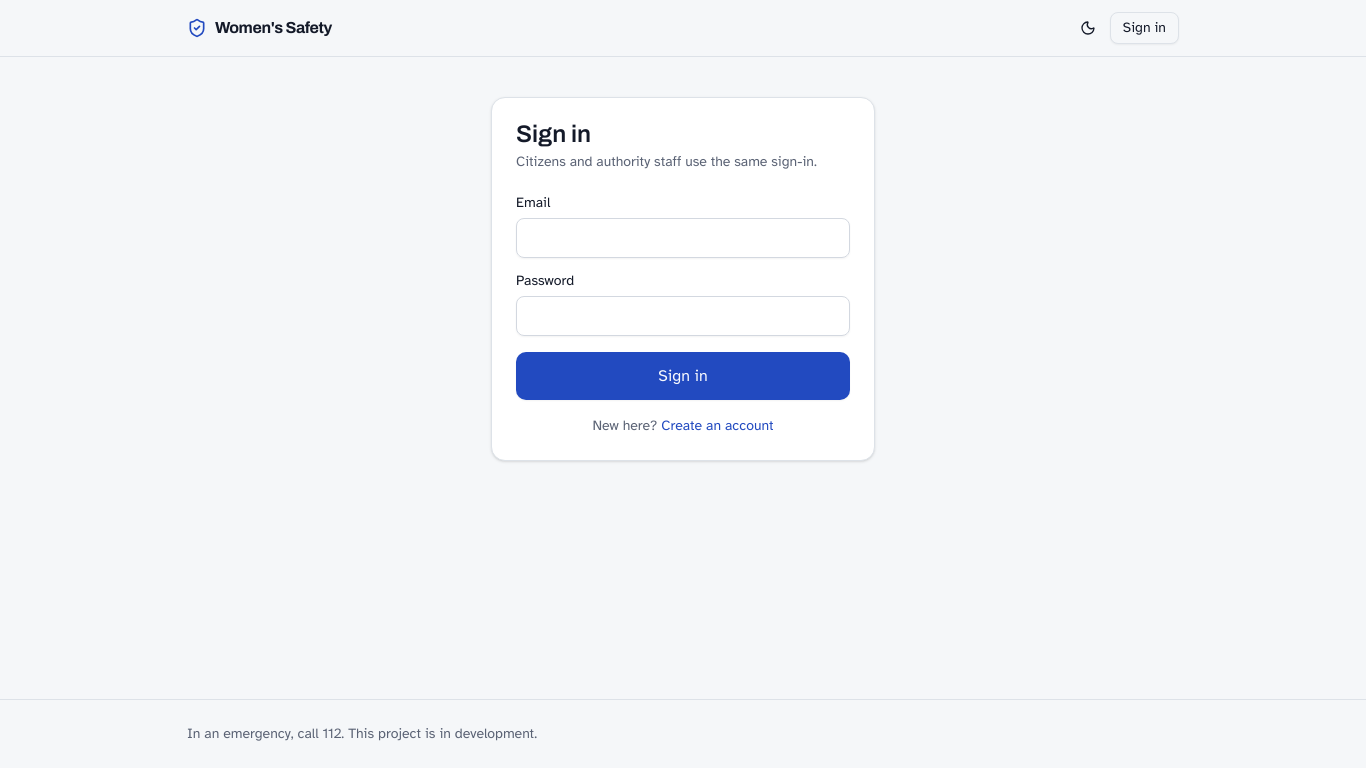
Test: sign-in › shows the error from a failed sign-in
The image size is (1366, 768).
Type "priya@example.org" into the field labelled "Email" at (683, 238), box 516,218 -> 850,258
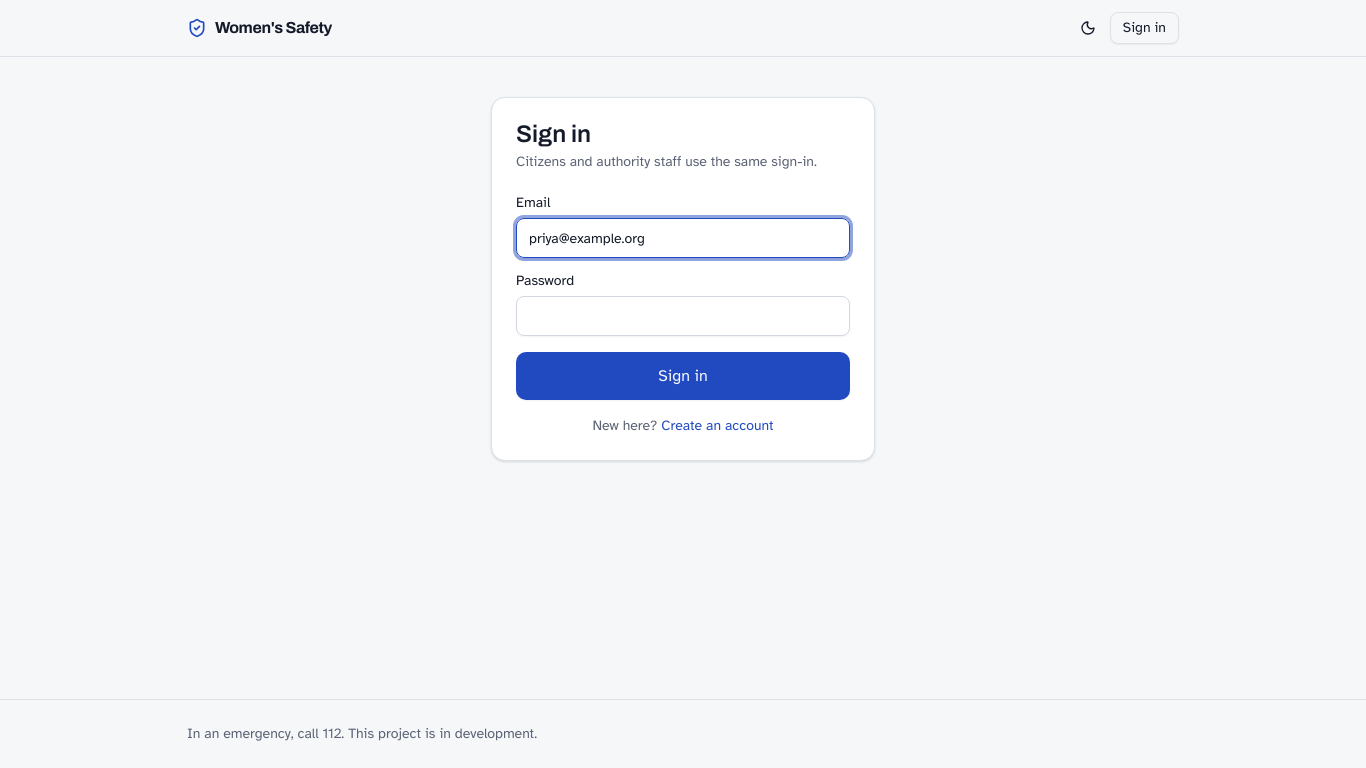
Type "wrong" into the password field labelled "Password" at (683, 316), box 516,296 -> 850,336
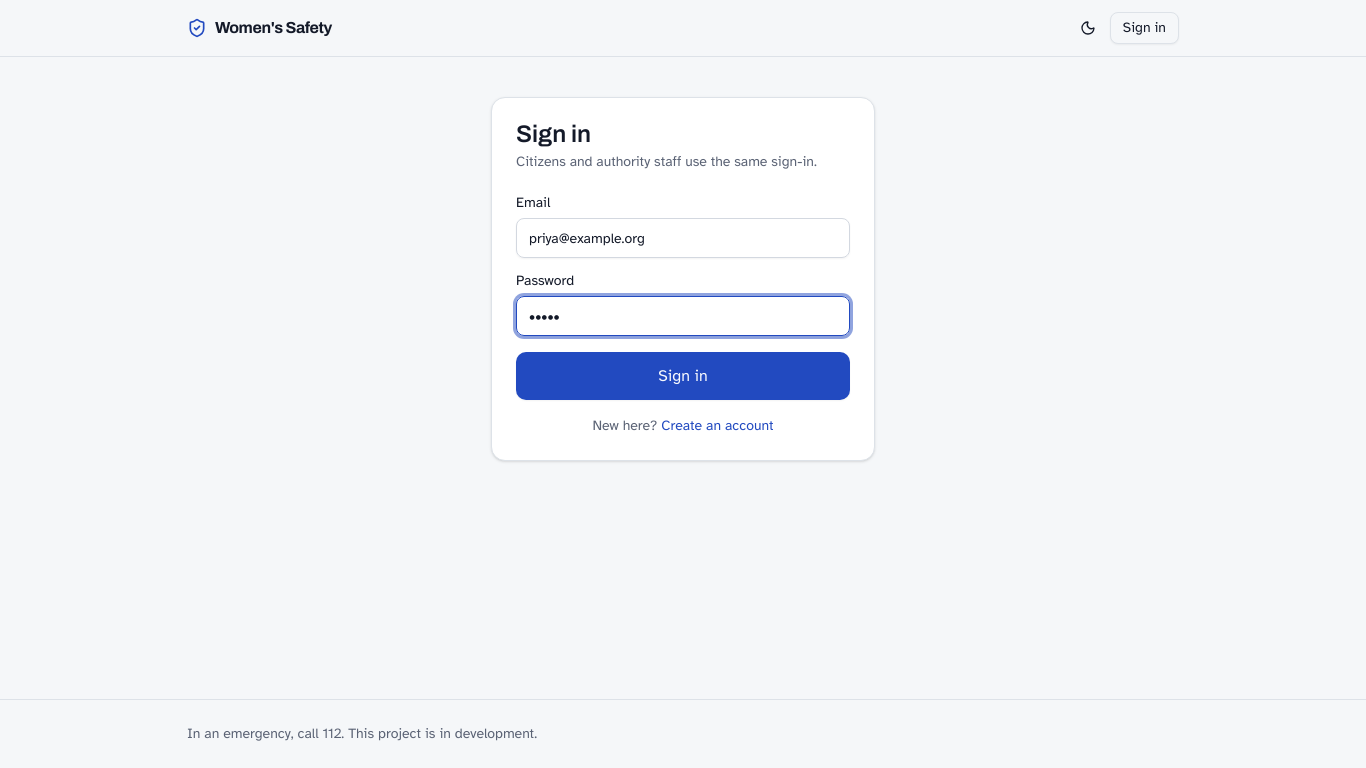
Click the button "Sign in" at (683, 376), box 516,352 -> 850,400
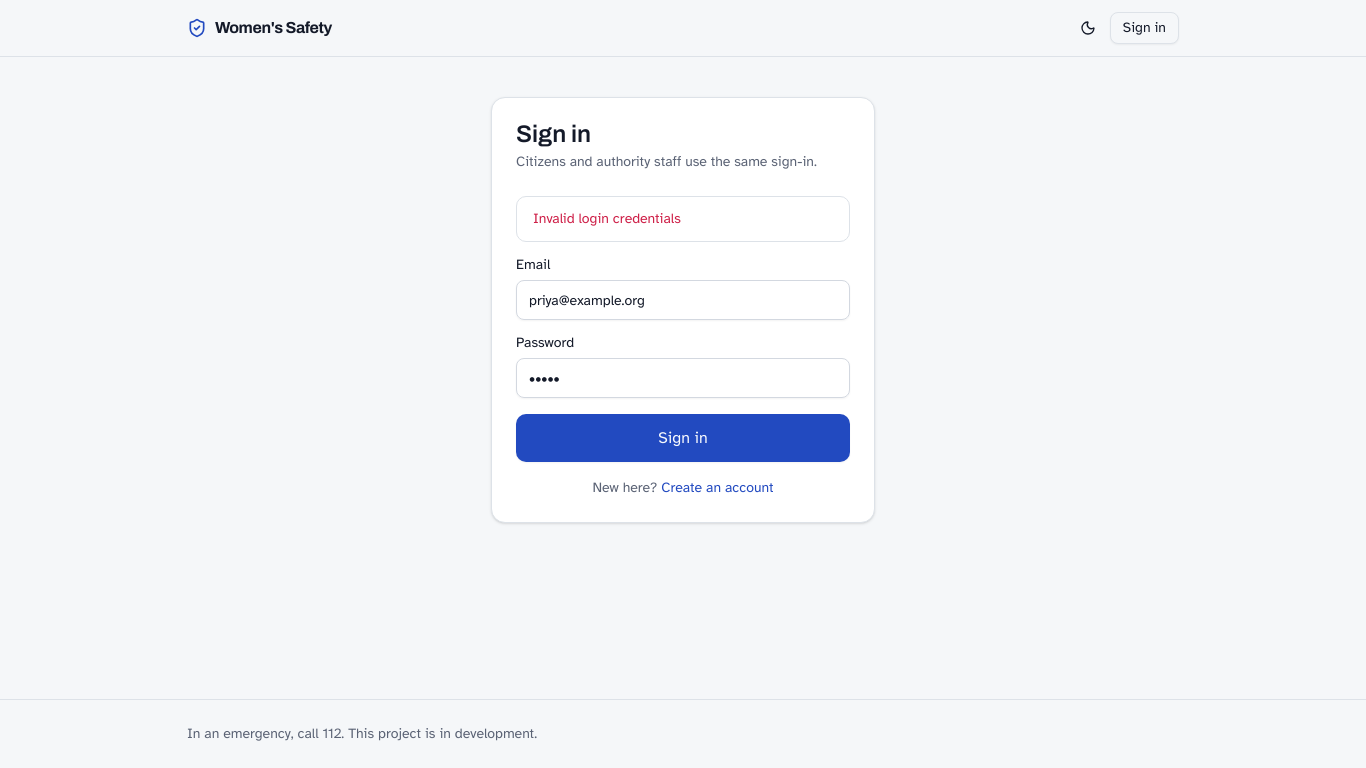
expect the text "Invalid login credentials" is shown: met, box 533,210 -> 681,227
